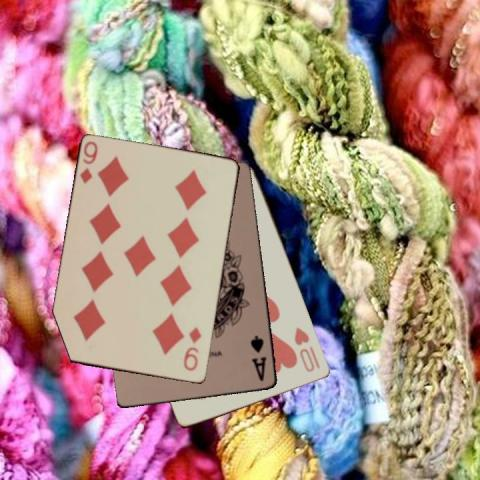10h: (291, 324, 322, 374)
9d: (182, 324, 204, 373), (78, 139, 100, 186)
As: (247, 332, 269, 382)
